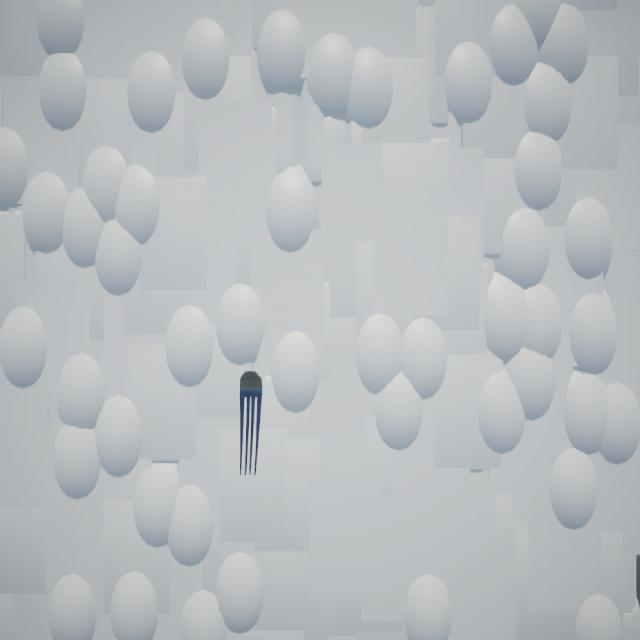top_folk: (241, 372, 264, 476)
